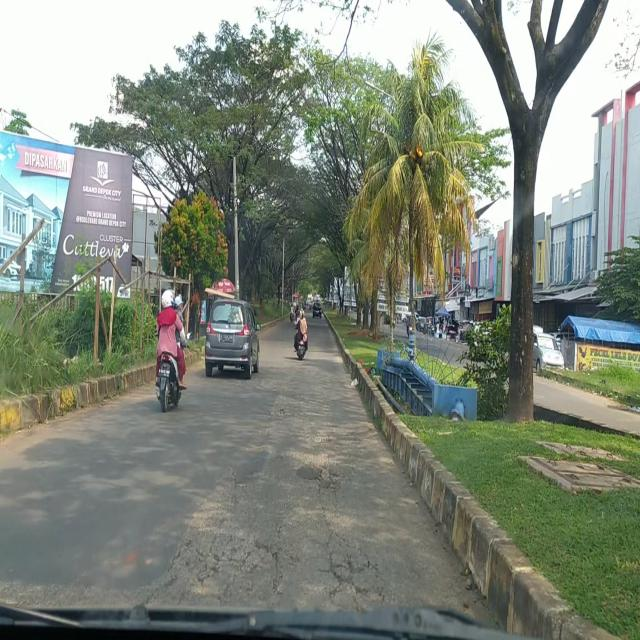Drain Hole: (177, 502, 380, 608)
